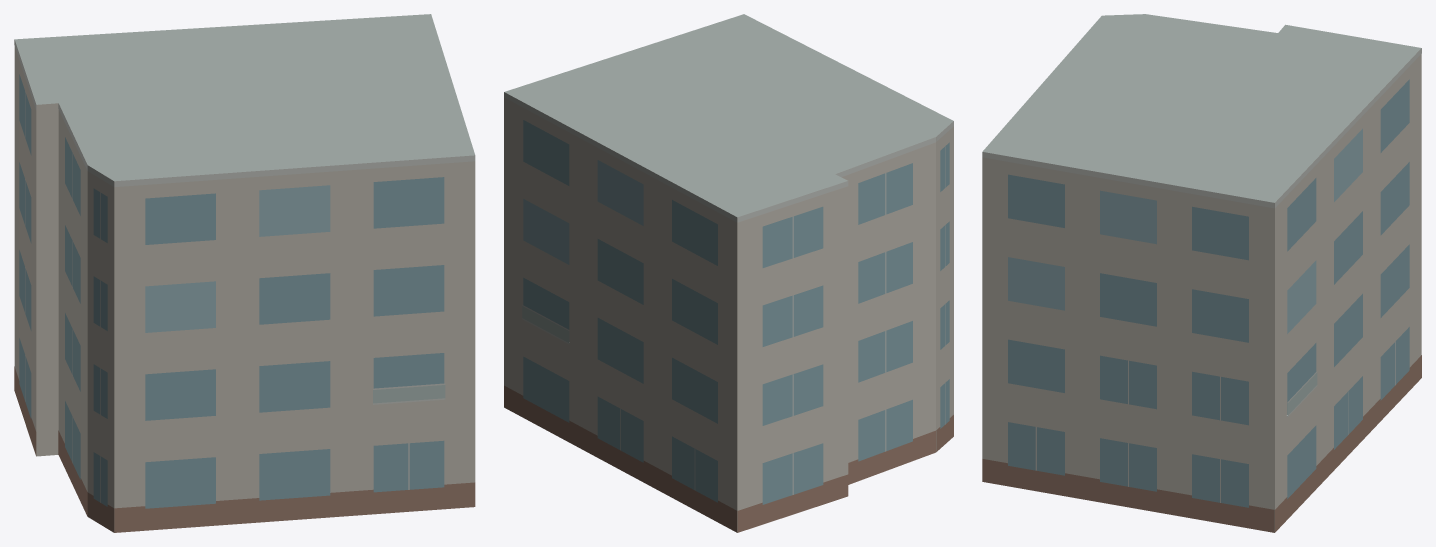
The model's file is survey-upis-32800451.glb.
3 renders of one model, left to right at view 1: azimuth 30°, elevation 25°; view 2: azimuth 150°, elevation 25°; view 3: azimuth 270°, elevation 25°, orthographic. The views are drawn at different scales.
Parts seen in each view (by area): view 1: survey-upis-32800451.tmp; view 2: survey-upis-32800451.tmp; view 3: survey-upis-32800451.tmp.
Part boxes in pixels (bbox=[...]): survey-upis-32800451.tmp: bbox=[14, 14, 475, 532]; survey-upis-32800451.tmp: bbox=[504, 14, 953, 532]; survey-upis-32800451.tmp: bbox=[982, 14, 1421, 532].
Bounding box in the file's own units: 17.75 × 14.45 × 17.45.
